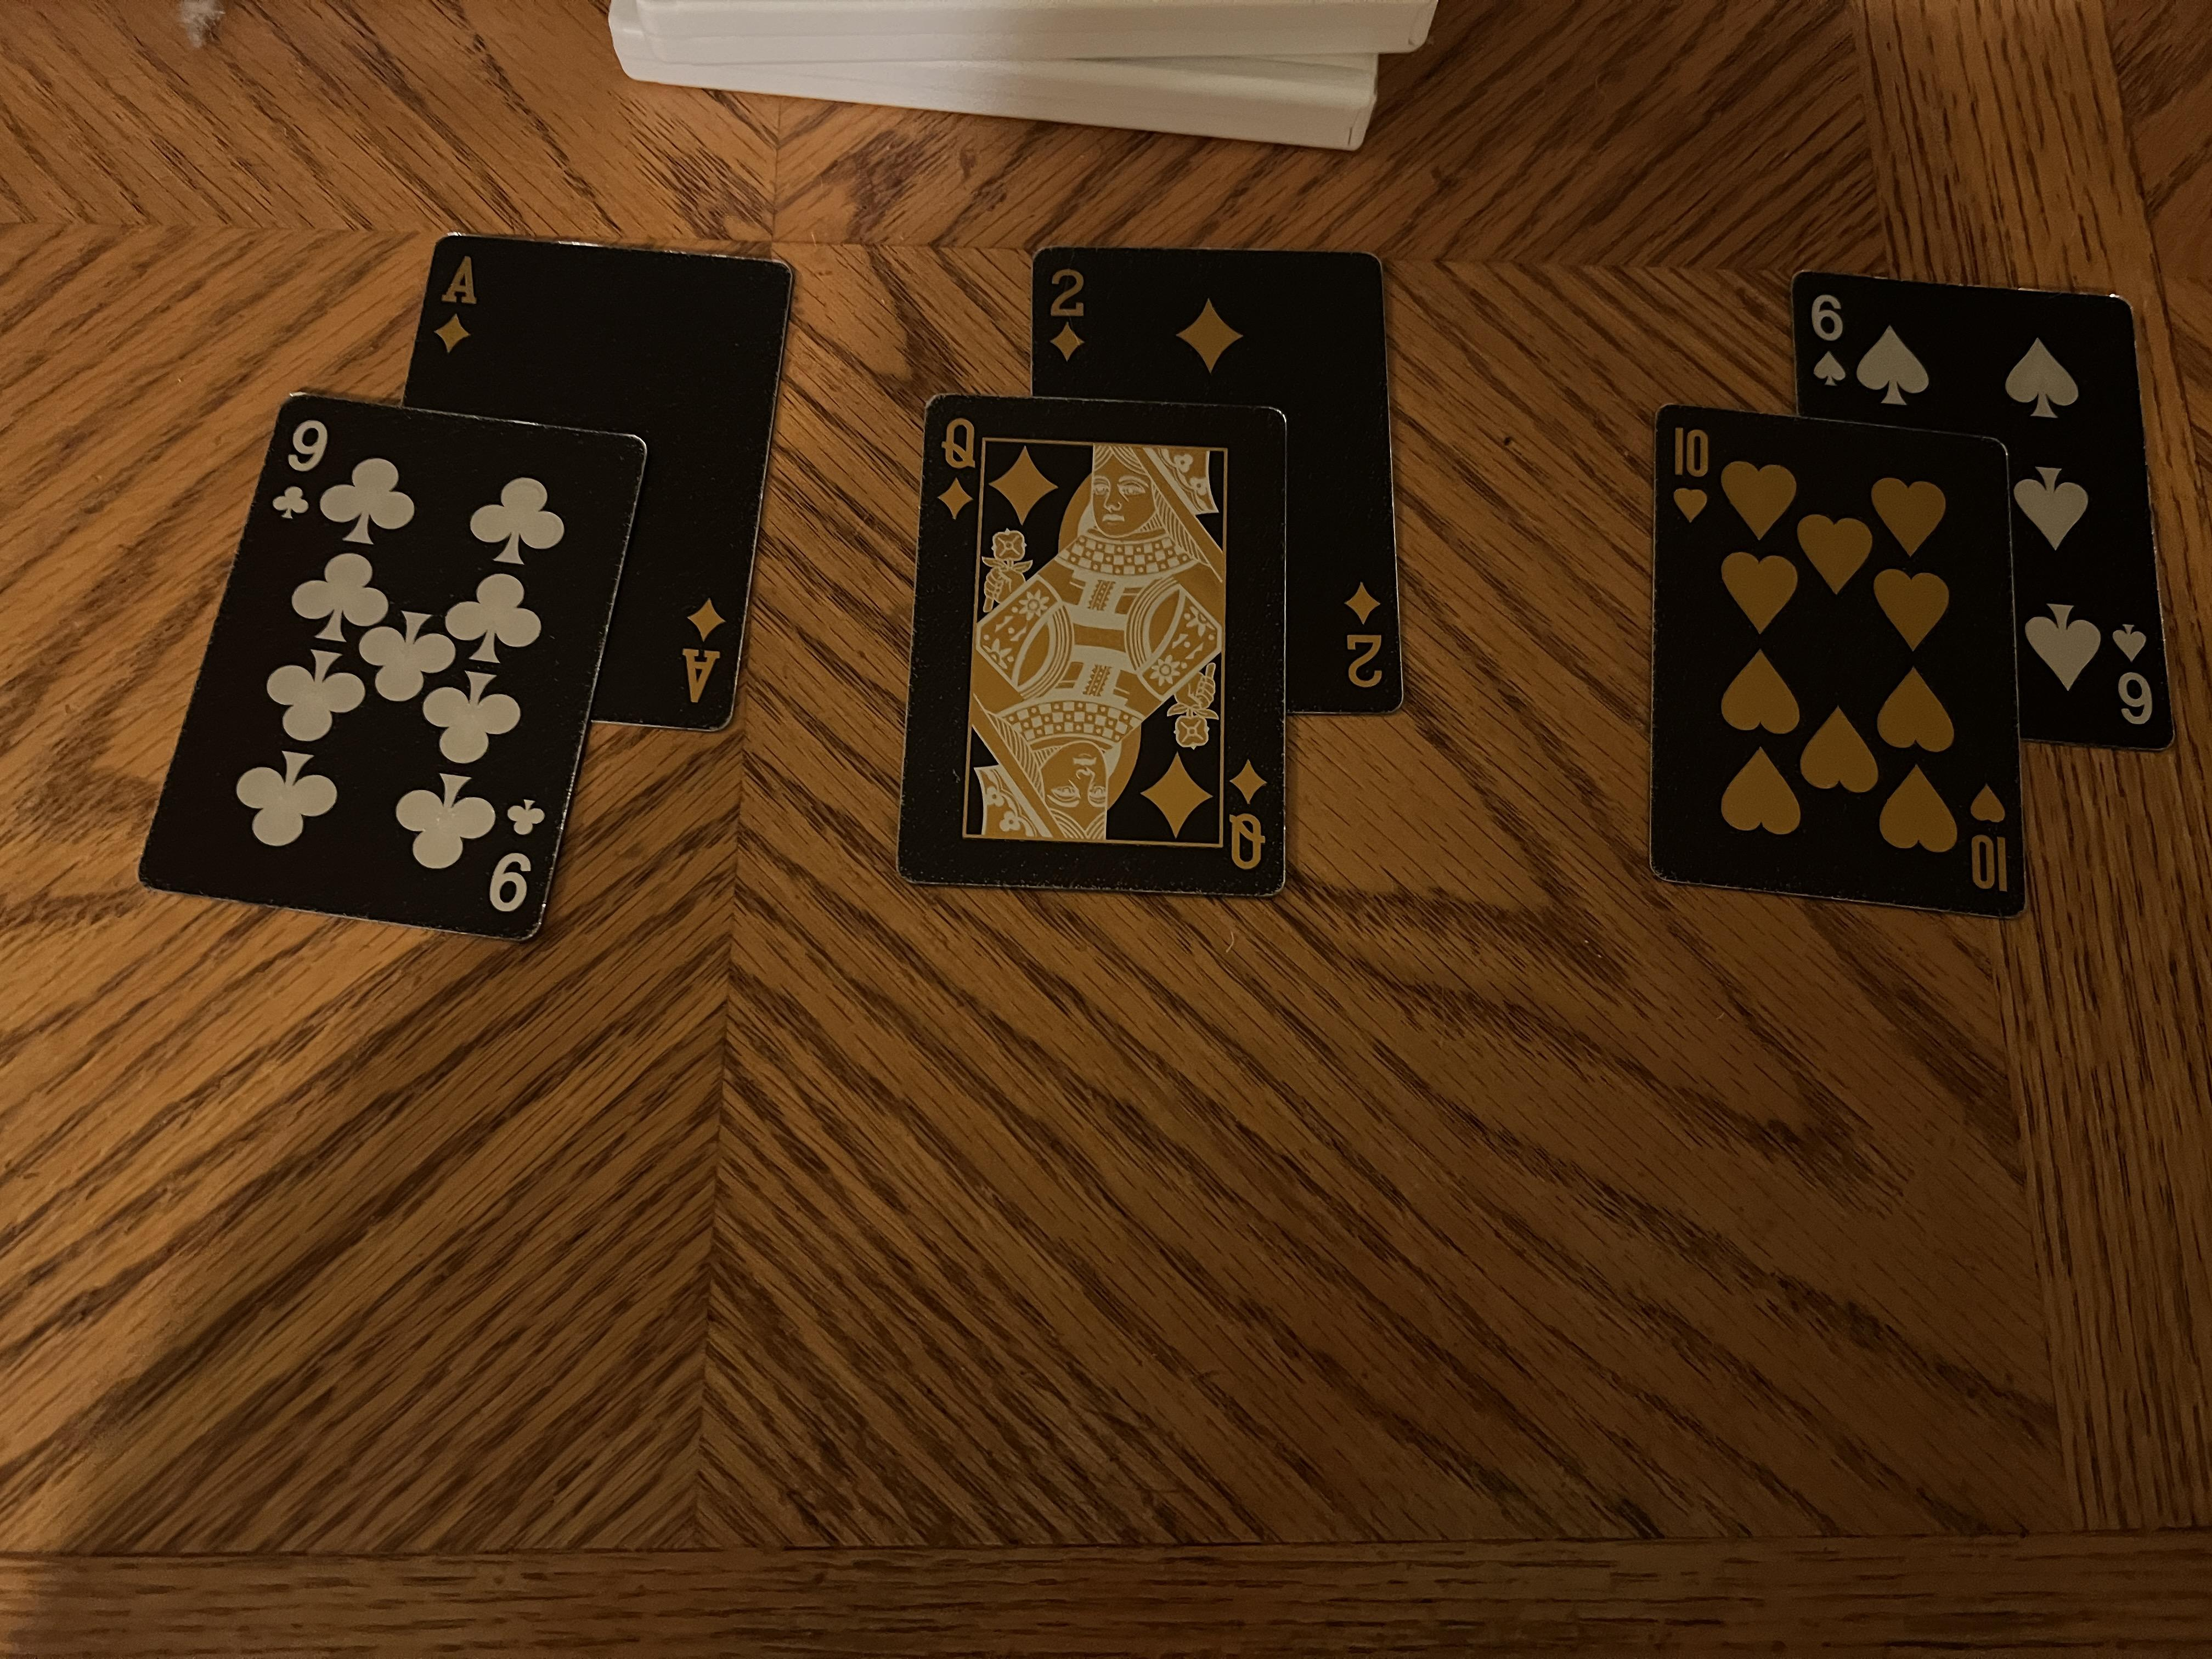10H: (1510, 1248, 1674, 1293), (1021, 1473, 1176, 1516)
2D: (1291, 1002, 1451, 1044), (1737, 777, 1864, 819)
6S: (1677, 1349, 1834, 1392), (1242, 1584, 1393, 1617)
9C: (984, 357, 1172, 416), (1519, 193, 1672, 251)
AD: (1731, 310, 1898, 373), (1270, 498, 1425, 554)
QD: (1043, 917, 1231, 955), (1517, 694, 1667, 737)
